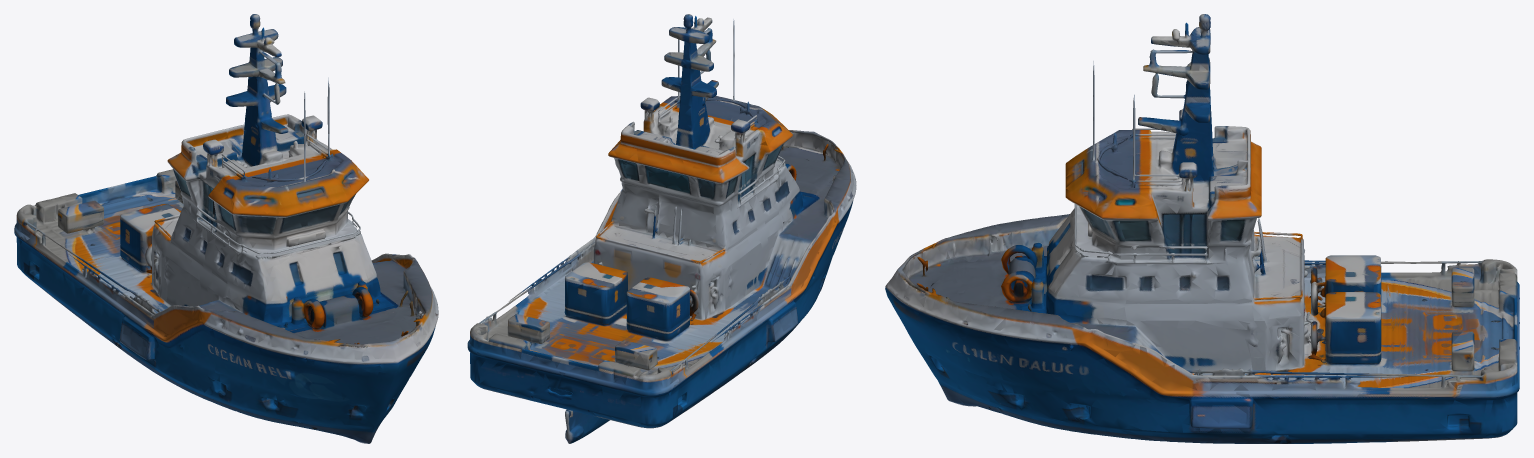
The model's file is tripo_convert_ee0434a6-ca1f-4d36-83a3-f815a322b6fc.fbx.
3 renders of one model, left to right at view 1: azimuth 30°, elevation 25°; view 2: azimuth 150°, elevation 25°; view 3: azimuth 270°, elevation 25°, orthographic. The views are drawn at different scales.
Visible parts, largest first — view 1: tripo_node_ee0434a6; view 2: tripo_node_ee0434a6; view 3: tripo_node_ee0434a6.
Boxes of the visible parts, x1,y1,x2,y2 form: tripo_node_ee0434a6: (14, 14, 438, 443); tripo_node_ee0434a6: (467, 14, 856, 443); tripo_node_ee0434a6: (885, 14, 1519, 443).
Bounding box in the file's own units: 46.91 × 100 × 73.98.
Materials: 1 (1 with a texture image).
